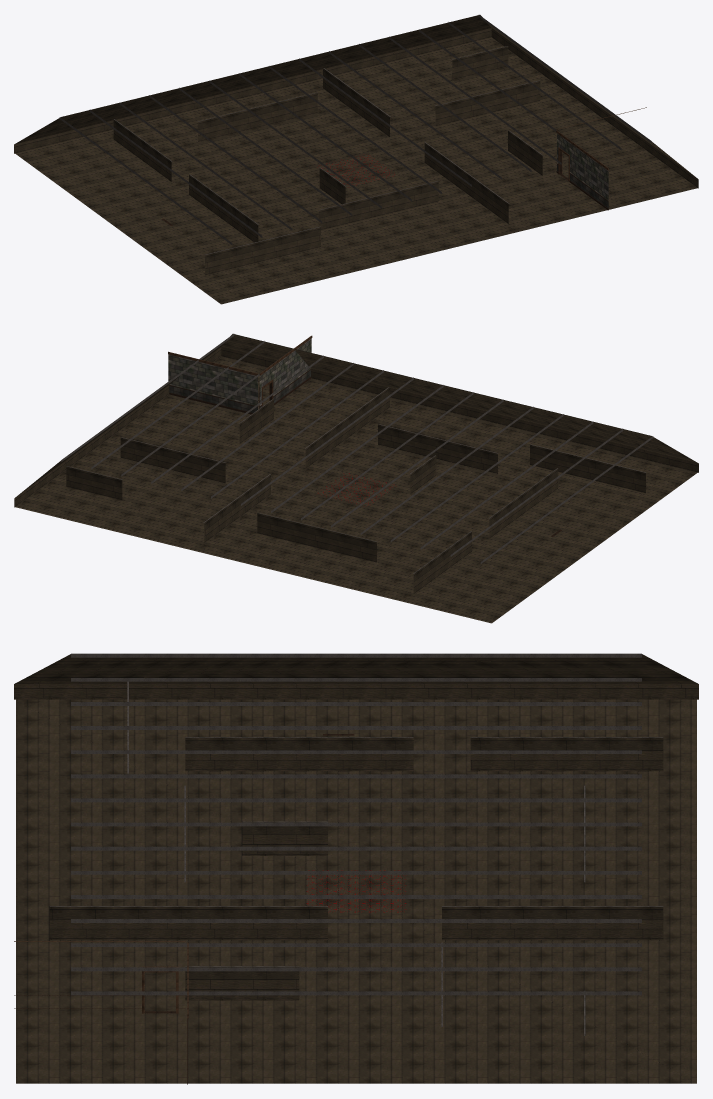
Rendered from manor_at_1.glb.
3 renders of one model, top to bottom at view 1: azimuth 30°, elevation 25°; view 2: azimuth 150°, elevation 25°; view 3: azimuth 270°, elevation 25°, orthographic. The views are drawn at different scales.
Parts seen in each view (by area): view 1: manor_at; view 2: manor_at; view 3: manor_at.
Boxes of the visible parts, left/top/right/bottom form: manor_at: left=14, top=14, right=698, bottom=304; manor_at: left=14, top=333, right=698, bottom=623; manor_at: left=14, top=653, right=698, bottom=1084.
Size of the model in its own units: 64 by 5.4 by 48.
8 materials, 8 textured.
